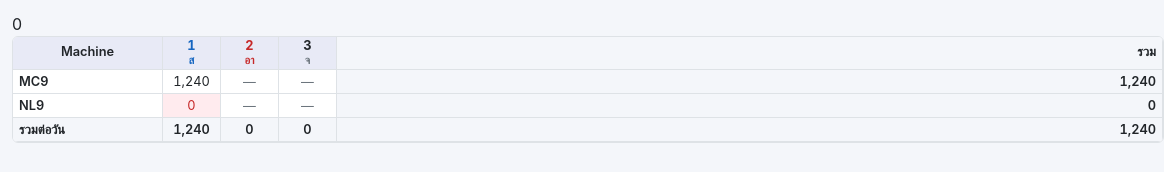
คลิกหัวคอลัมน์ = ทุกเครื่องในวันนั้น · คลิกชื่อเครื่อง = ทั้งเดือน
Click the column heading titled "2026-08-01 (คลิกเพื่อเลือกทั้งวัน)" at (192, 53), box [163,37,221,70]
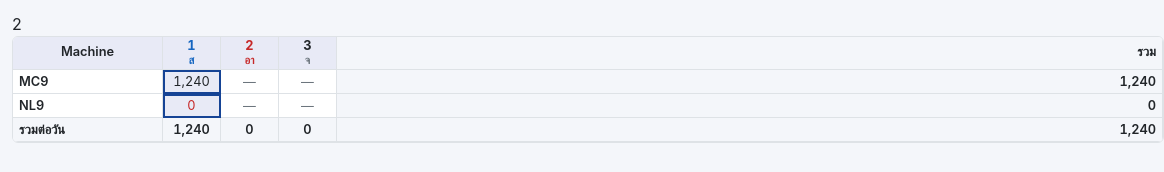
expect the text with test id "count" reads "2": met, box [12,14,22,34]
Click the cell titled "MC9 (คลิกเพื่อเลือกทั้งเดือน)" at (88, 82), box [13,70,163,94]
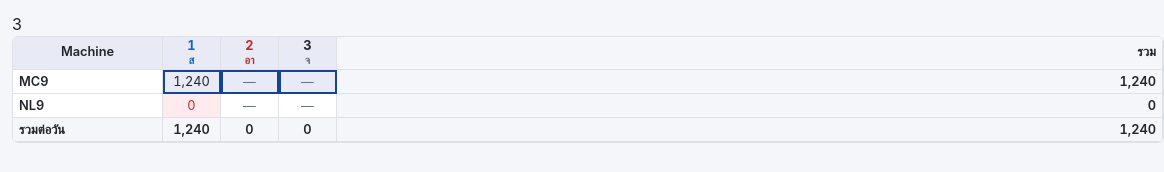
expect the text with test id "count" reads "3": met, box [12,14,22,34]
